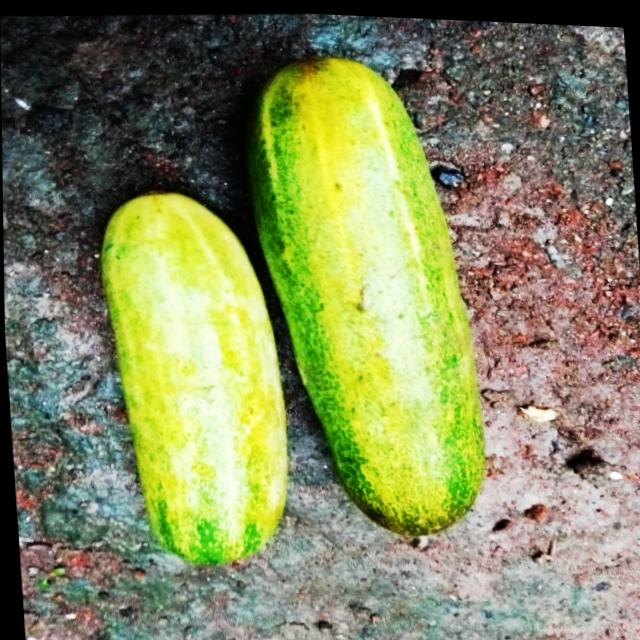Fresh-Cucumber: (235, 40, 494, 548), (90, 179, 299, 576)
